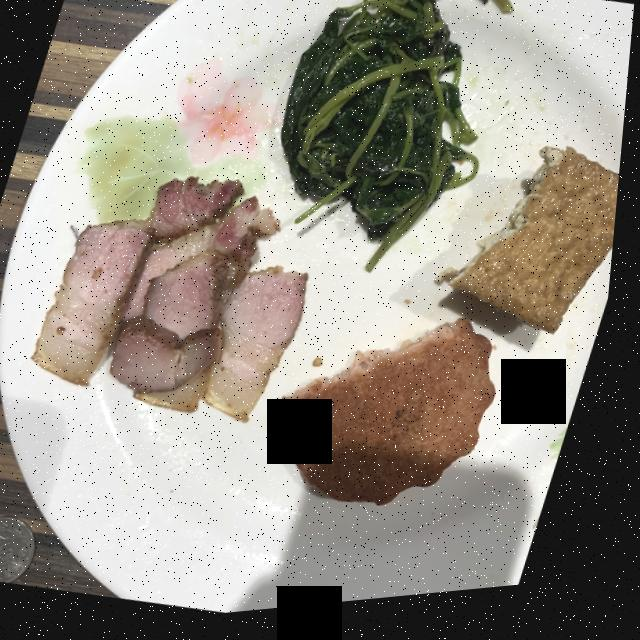Spam: (289, 327, 503, 514)
coin: (0, 517, 45, 584)
egg tofu: (441, 158, 624, 345)
grilled pork: (40, 181, 313, 426)
sweet potato leaves: (283, 0, 482, 279)
